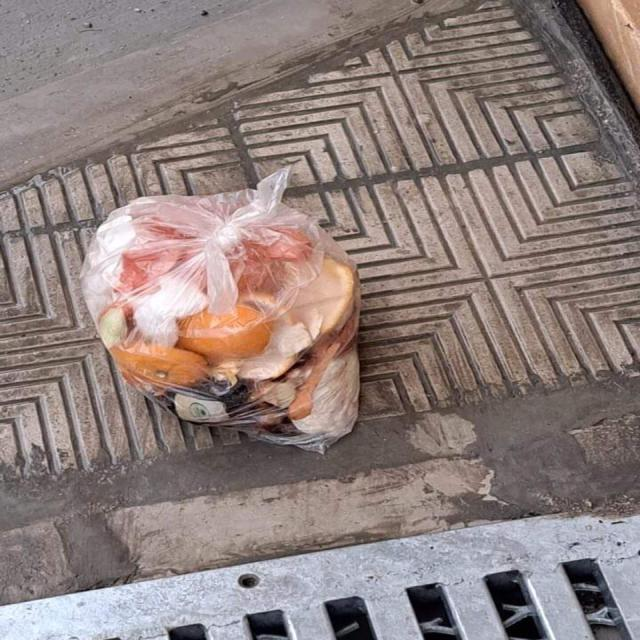Organic Waste -White Bag-: (84, 168, 373, 455)
